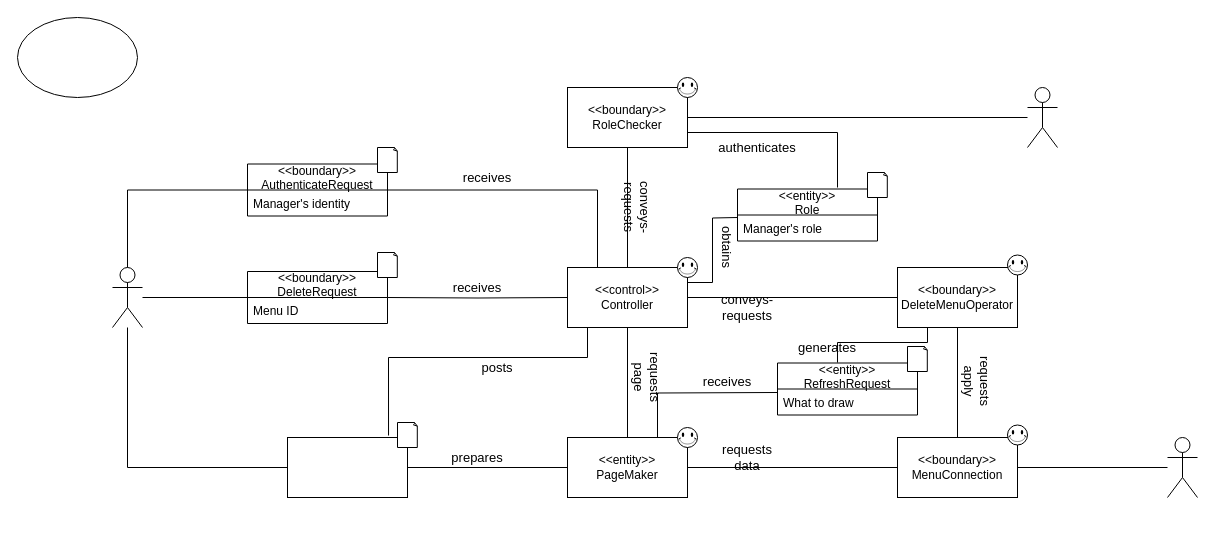
This 1222x536 diagram has some shape labels left out. Each missing label, with the centre of its shape:
"<<boundary>> InterfacePage" goes at [347,467].
"Authenticator" goes at [1042,117].
"BUC-5 DeleteMenu" goes at [77,57].
"Manager" goes at [127,297].
"Menulist" goes at [1182,467].
